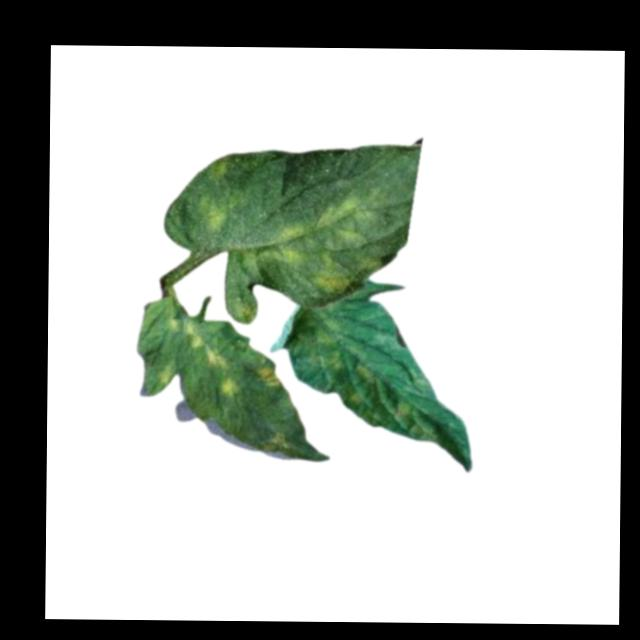Leaf_Mold: (262, 193, 383, 292), (288, 300, 346, 370), (343, 363, 408, 424), (196, 158, 244, 233), (169, 318, 204, 348), (252, 364, 278, 389), (261, 436, 288, 456), (202, 348, 226, 370), (219, 376, 239, 400), (156, 363, 175, 387)
